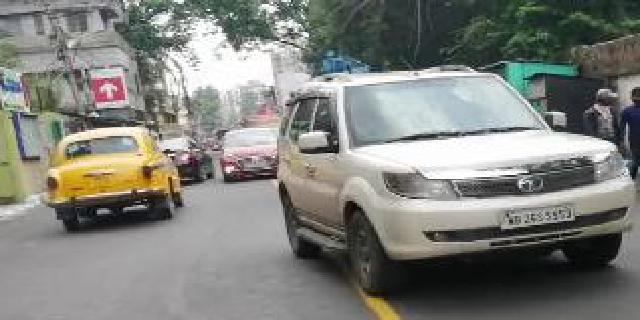Car: (275, 61, 633, 290), (42, 121, 189, 225), (215, 123, 277, 189)
